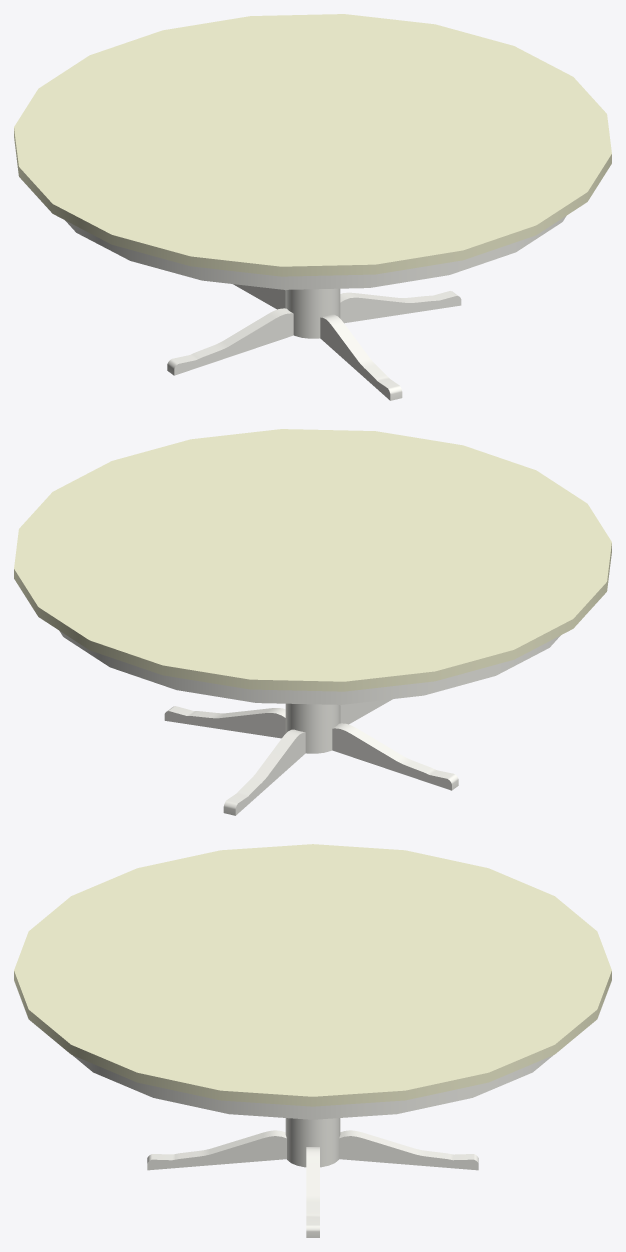
Rendered from table 1.fbx.
The picture shows the model from 3 angles, top to bottom: view 1: azimuth 30°, elevation 25°; view 2: azimuth 150°, elevation 25°; view 3: azimuth 270°, elevation 25°; orthographic projection.
Visible parts, largest first — view 1: pCylinder1, pCylinder2, pCube4, pCube2, pCube3, pCylinder3, pCube1; view 2: pCylinder1, pCylinder2, pCube4, pCube2, pCube1, pCylinder3, pCube3; view 3: pCylinder1, pCylinder2, pCube1, pCube3, pCylinder3, pCube2.
Boxes of the visible parts, <box> form: pCylinder1: <box>14,14,611,276</box>; pCylinder2: <box>65,216,566,289</box>; pCube4: <box>167,308,293,375</box>; pCube2: <box>340,291,461,323</box>; pCube3: <box>320,314,402,400</box>; pCylinder3: <box>285,288,340,338</box>; pCube1: <box>233,284,285,309</box>; pCylinder1: <box>14,429,611,691</box>; pCylinder2: <box>59,631,560,704</box>; pCube4: <box>332,723,458,790</box>; pCube2: <box>164,706,285,738</box>; pCube1: <box>223,729,305,815</box>; pCylinder3: <box>285,703,340,753</box>; pCube3: <box>340,699,392,724</box>; pCylinder1: <box>14,844,611,1106</box>; pCylinder2: <box>73,1055,552,1119</box>; pCube1: <box>339,1130,478,1170</box>; pCube3: <box>147,1130,286,1170</box>; pCylinder3: <box>285,1118,340,1167</box>; pCube2: <box>306,1147,319,1237</box>.
Bounding box in the file's own units: 220 × 80 × 220.
